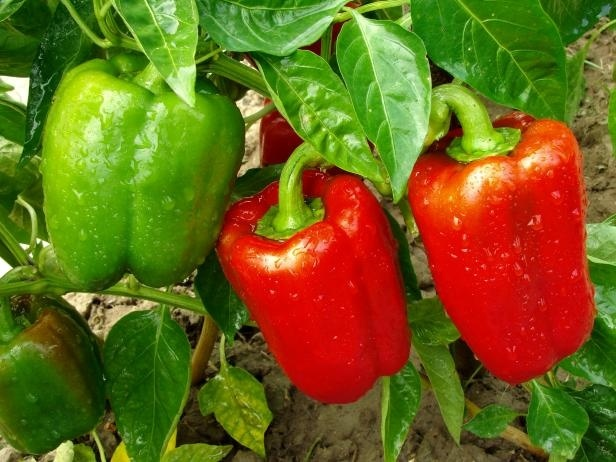fruit: (406, 109, 601, 385), (40, 54, 245, 288), (216, 169, 413, 405), (1, 292, 105, 456)
pedicle: (253, 197, 328, 242), (445, 127, 522, 163), (117, 68, 179, 93), (2, 313, 26, 344)
